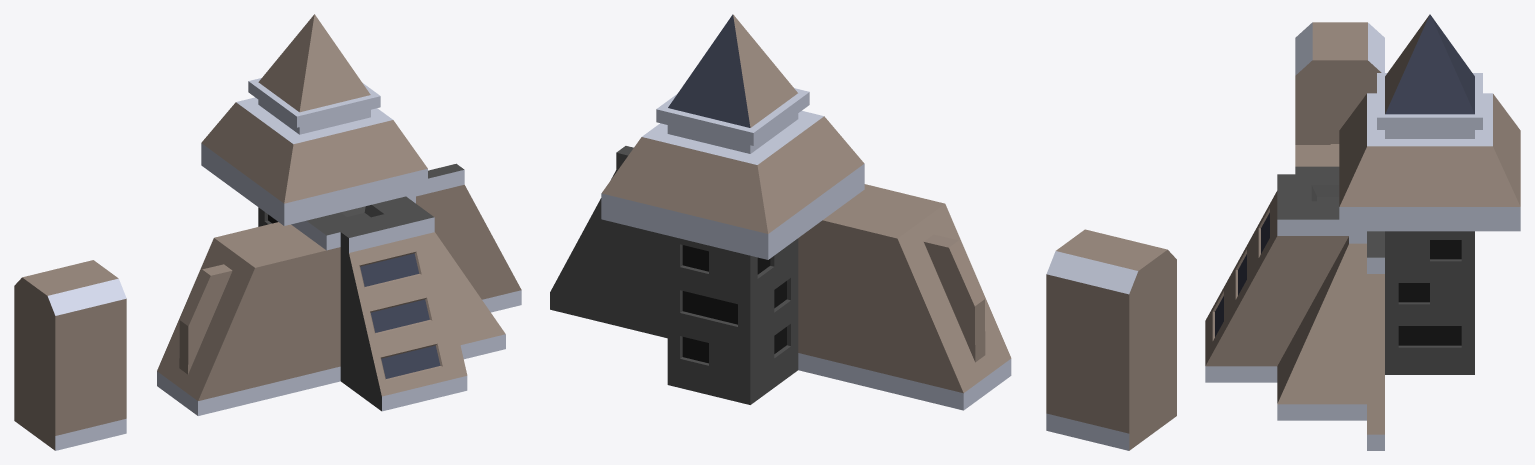
File: PyramidA.fbx
3 views of the same model, side by side, from view 1: azimuth 30°, elevation 25°; view 2: azimuth 150°, elevation 25°; view 3: azimuth 270°, elevation 25° (orthographic). The views are drawn at different scales.
Parts seen in each view (by area): view 1: PyramidA_ublock, PyramidA_single, PyramidA_wall, PyramidA_boundary, PyramidA_corner; view 2: PyramidA_single, PyramidA_ublock, PyramidA_wall, PyramidA_inner, PyramidA_corner; view 3: PyramidA_single, PyramidA_corner, PyramidA_inner, PyramidA_wall, PyramidA_boundary, PyramidA_ublock.
Boxes of the visible parts, box(x1,y1,x2,y2) form: PyramidA_ublock: box(157, 217, 340, 415); PyramidA_single: box(201, 14, 427, 225); PyramidA_wall: box(14, 260, 126, 450); PyramidA_boundary: box(321, 200, 453, 411); PyramidA_corner: box(392, 163, 521, 393); PyramidA_single: box(601, 14, 864, 259); PyramidA_ublock: box(798, 184, 1011, 410); PyramidA_wall: box(1046, 229, 1176, 450); PyramidA_inner: box(667, 235, 798, 404); PyramidA_corner: box(550, 146, 667, 338); PyramidA_single: box(1339, 14, 1520, 231); PyramidA_corner: box(1205, 212, 1384, 450); PyramidA_inner: box(1385, 231, 1474, 374); PyramidA_wall: box(1295, 22, 1384, 144); PyramidA_boundary: box(1205, 174, 1339, 358); PyramidA_ublock: box(1295, 144, 1339, 174).
Size of the model in its own units: 700 by 420 by 351.
